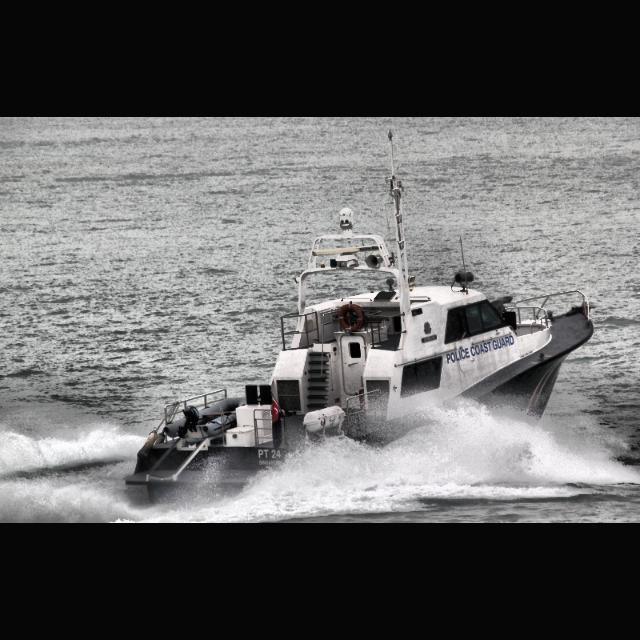patrol_vessel: (124, 130, 596, 512)
